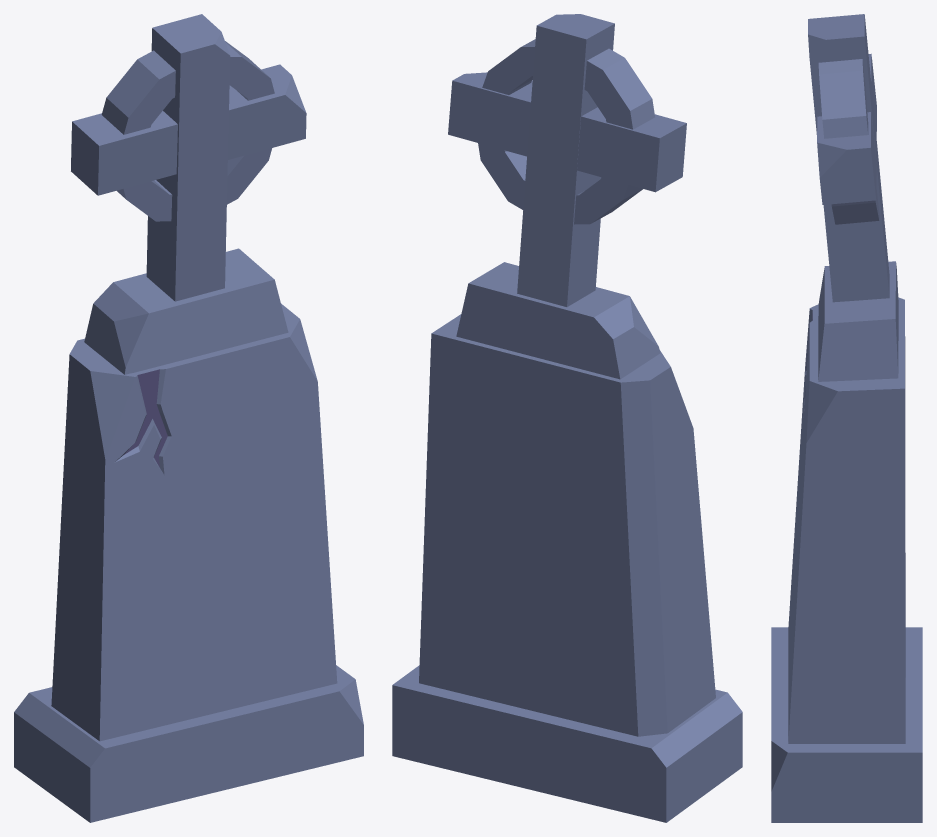
The model's file is Toombstone_06.fbx.
The picture shows the model from 3 angles, left to right: view 1: azimuth 30°, elevation 25°; view 2: azimuth 150°, elevation 25°; view 3: azimuth 270°, elevation 25°; orthographic projection.
Parts seen in each view (by area): view 1: Toombstone 6; view 2: Toombstone 6; view 3: Toombstone 6.
Part boxes in pixels (x1,y1,x2,y2): Toombstone 6: [14, 14, 363, 822]; Toombstone 6: [392, 14, 742, 822]; Toombstone 6: [771, 14, 922, 822].
Size of the model in its own units: 99.3 by 255 by 47.85.
